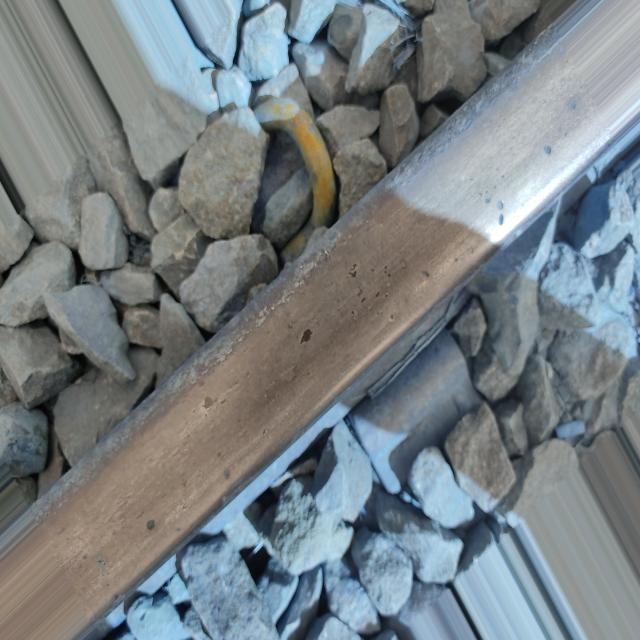Good Fasteners: (251, 96, 336, 264)
Missing Fastener: (350, 330, 481, 493)
